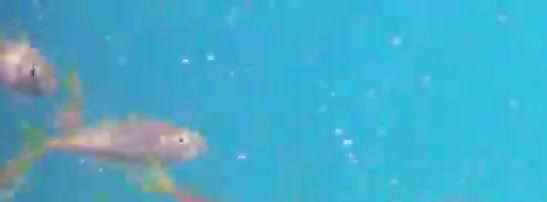smallfish: (11, 107, 201, 167)
